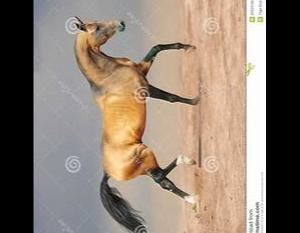horse: (72, 14, 199, 233)
